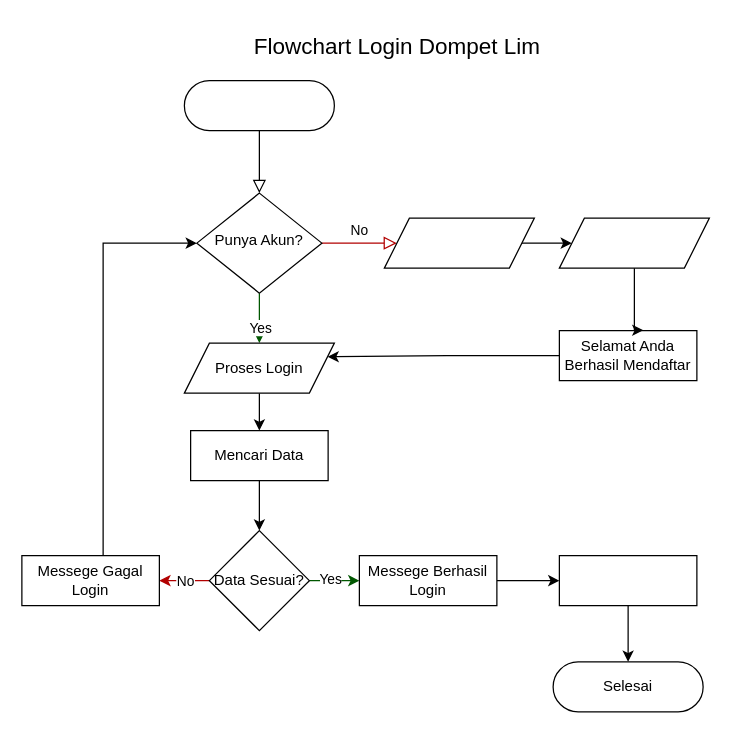
Image size: 731x734. Some labels were removed from this diagram. The centre of each missing label's shape, as x and y in pixels:
Home: point 627,580
Mulai: point 258,105
Proses Daftar: point 458,242
Verifikasi no HP: point 633,242
